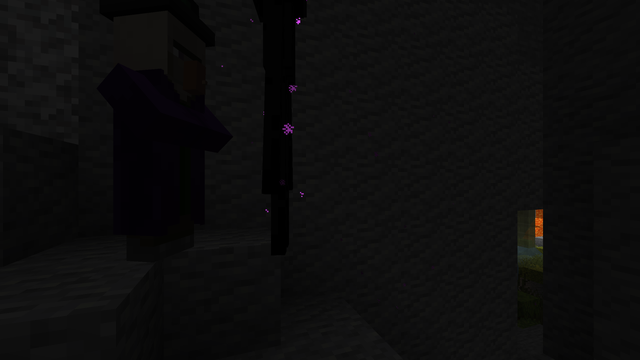endermens: (246, 1, 319, 254)
sorcieres: (104, 3, 204, 268)
